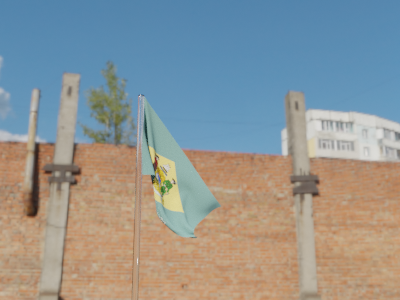Delaware flag: (140, 94, 222, 240)
